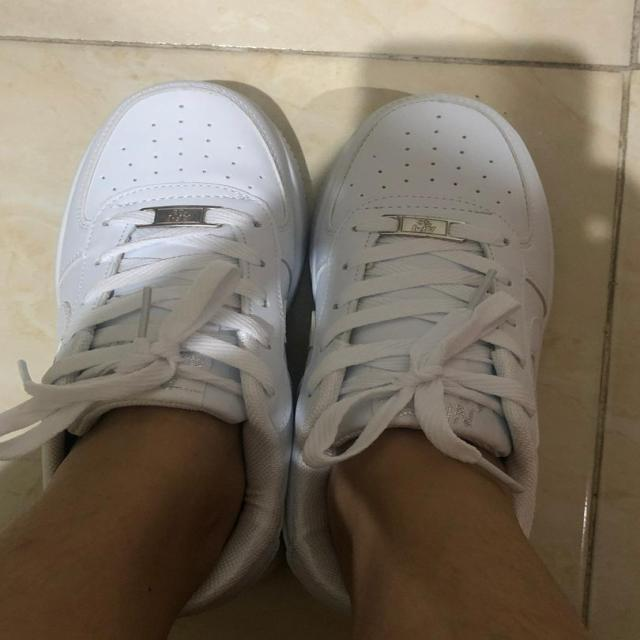nike fake air force: (34, 63, 312, 618), (284, 89, 563, 615)
